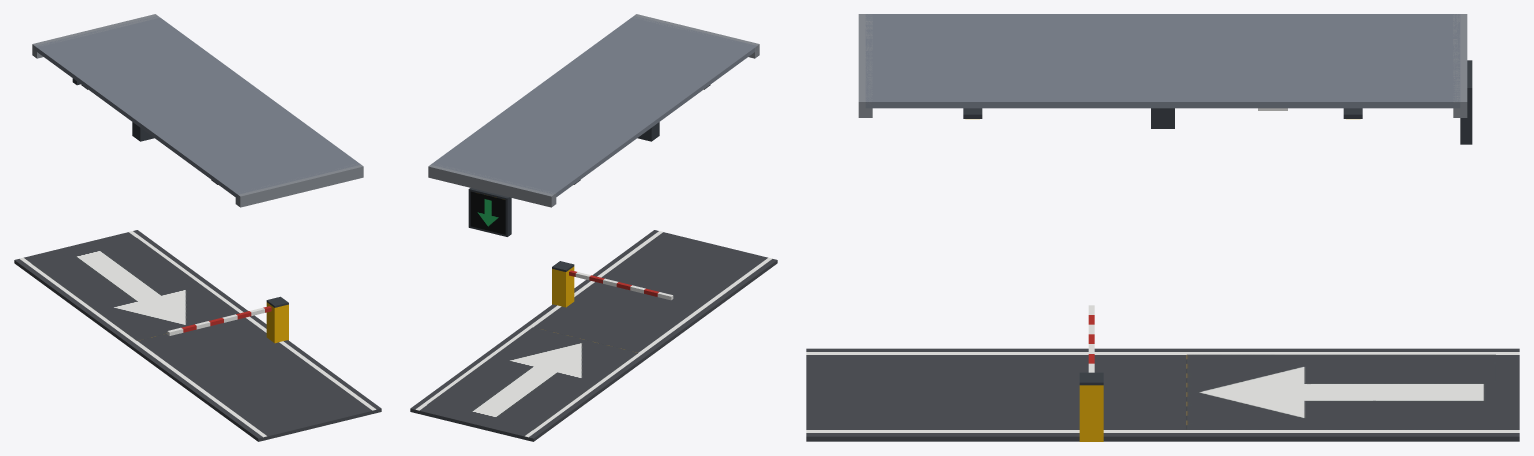
The model's file is gate-lane.glb.
3 views of the same model, side by side, from view 1: azimuth 30°, elevation 25°; view 2: azimuth 150°, elevation 25°; view 3: azimuth 270°, elevation 25° (orthographic). The views are drawn at different scales.
Parts seen in each view (by area): view 1: pavement, canopy, boom_housing, boom_geo; view 2: pavement, canopy, boom_housing, boom_geo; view 3: pavement, canopy, boom_housing.
Boxes of the visible parts, <box> form: pavement: <box>14,230,381,441</box>; canopy: <box>32,14,363,207</box>; boom_housing: <box>266,296,288,343</box>; boom_geo: <box>167,306,271,335</box>; pavement: <box>410,230,777,441</box>; canopy: <box>428,14,759,236</box>; boom_housing: <box>552,261,574,307</box>; boom_geo: <box>569,270,673,300</box>; pavement: <box>806,348,1519,441</box>; canopy: <box>858,14,1472,144</box>; boom_housing: <box>1079,372,1103,441</box>.
Bounding box in the file's own units: 3.52 × 6.3 × 12.
Materials: 1 (1 with a texture image).
